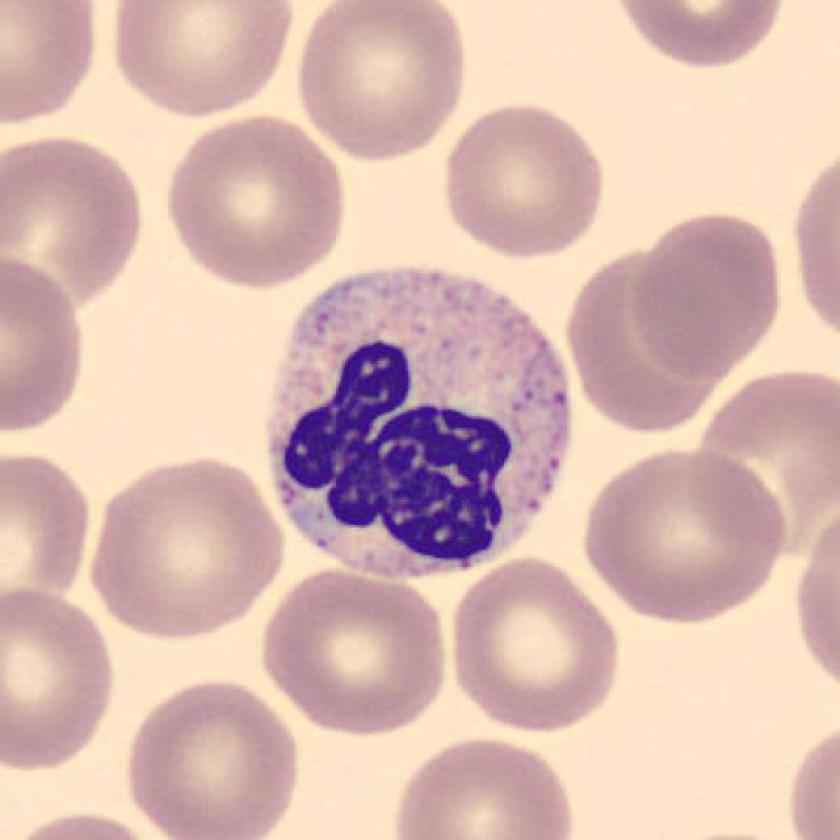neutrophil: (269, 269, 572, 581)
